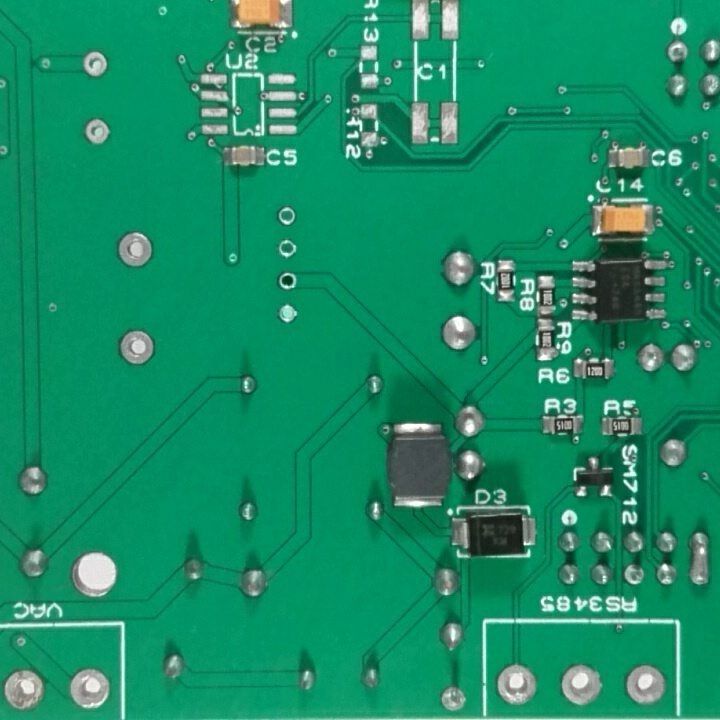F: (557, 659, 607, 711), (2, 662, 47, 715), (491, 663, 541, 709), (67, 666, 113, 712), (625, 664, 669, 712), (116, 326, 158, 370), (113, 228, 156, 270), (82, 115, 113, 149), (81, 49, 114, 79), (439, 684, 470, 715), (663, 38, 691, 67), (621, 561, 647, 588), (274, 204, 301, 228), (276, 268, 300, 292), (275, 237, 300, 260), (274, 299, 297, 323)
P: (686, 526, 712, 593)
